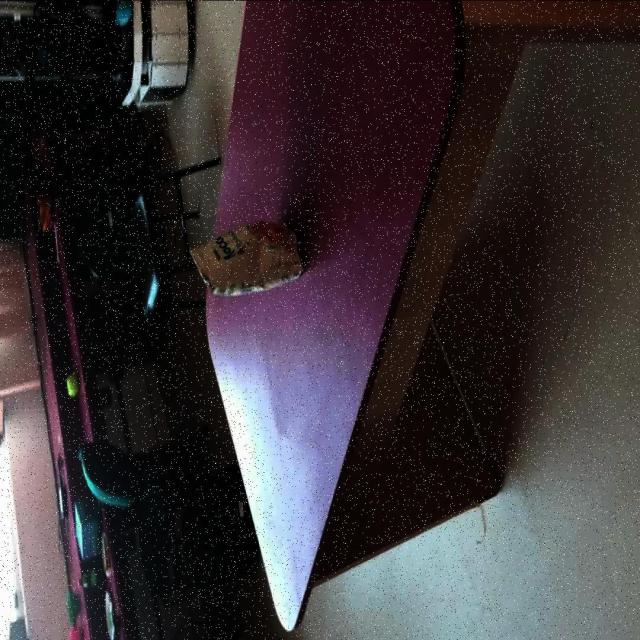CornFlakes: (187, 221, 303, 299)
